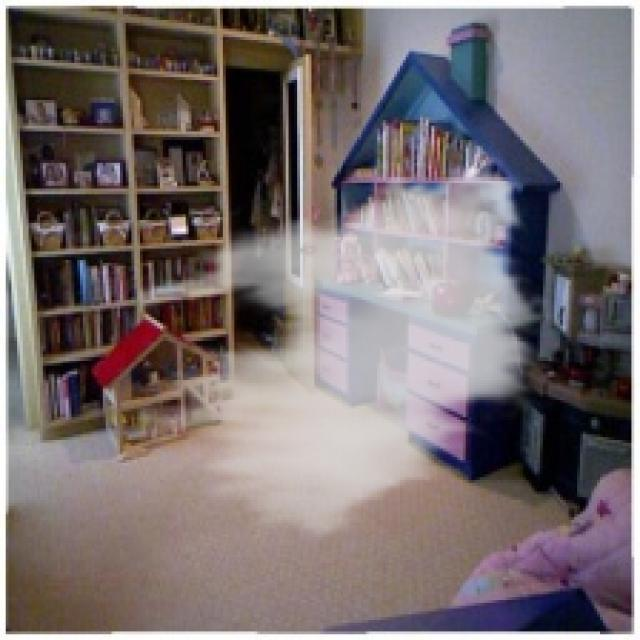Smoke: (137, 146, 554, 548)
